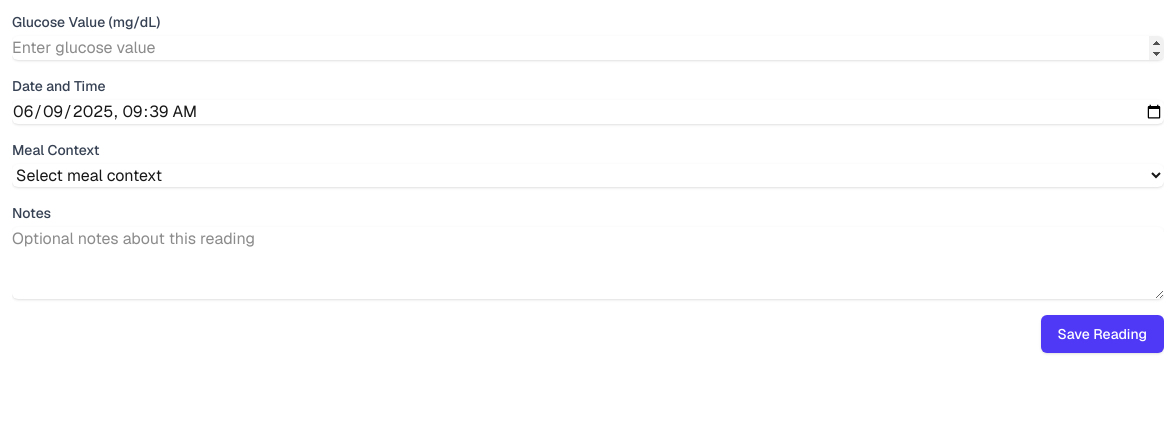
Test: GlucoseReadingForm Component › should validate glucose value is a positive number
# Try with invalid value
Type "-50" into the number field with test id "glucose-value-input" at (588, 48), box 12,36 -> 1164,60
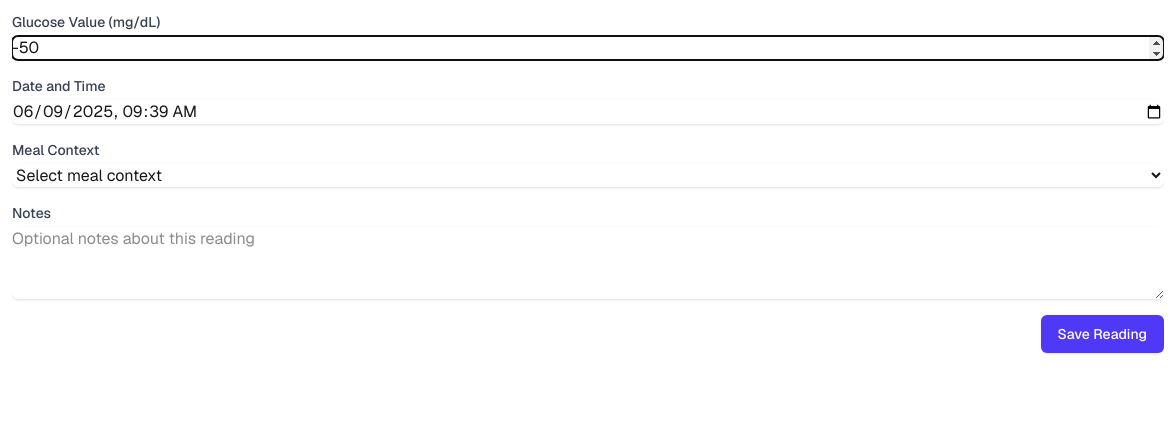
Click the button with test id "submit-button" at (1102, 334), box 1040,315 -> 1164,353
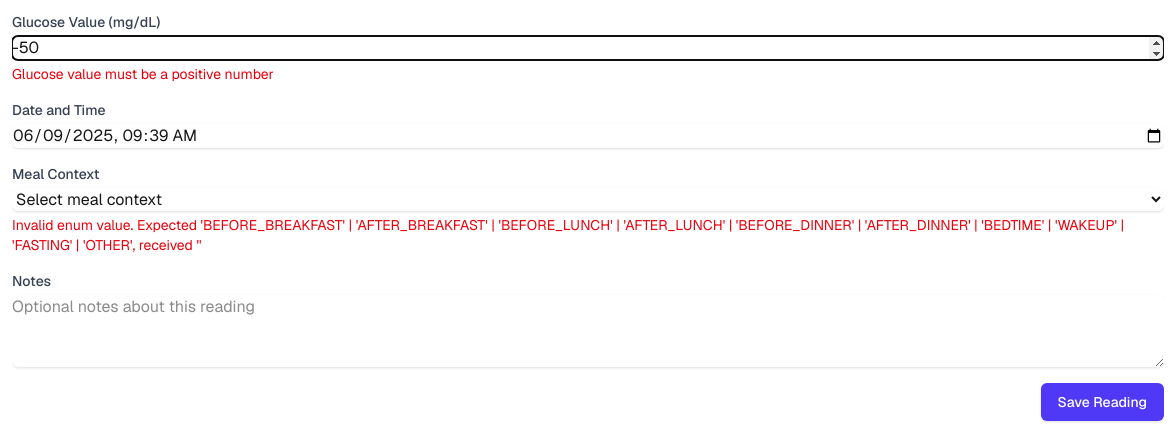
Result: the text "Glucose value must be a positive number" is shown at 12,65 -> 274,83
